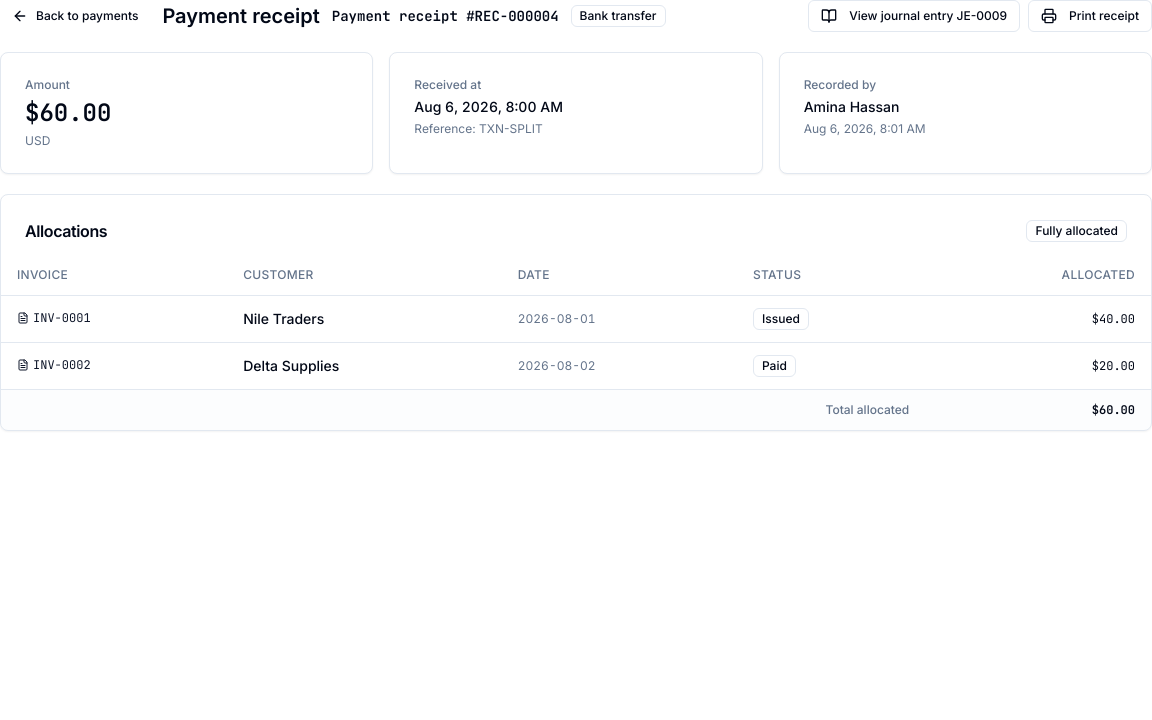
Test case: PaymentDetailView (ACC-9) — receipt detail › opens the receipt GL entry modal in place via View journal entry (ACC-9)
Click the button "View journal entry JE-0009": (914,16) 808,0 -> 1020,32
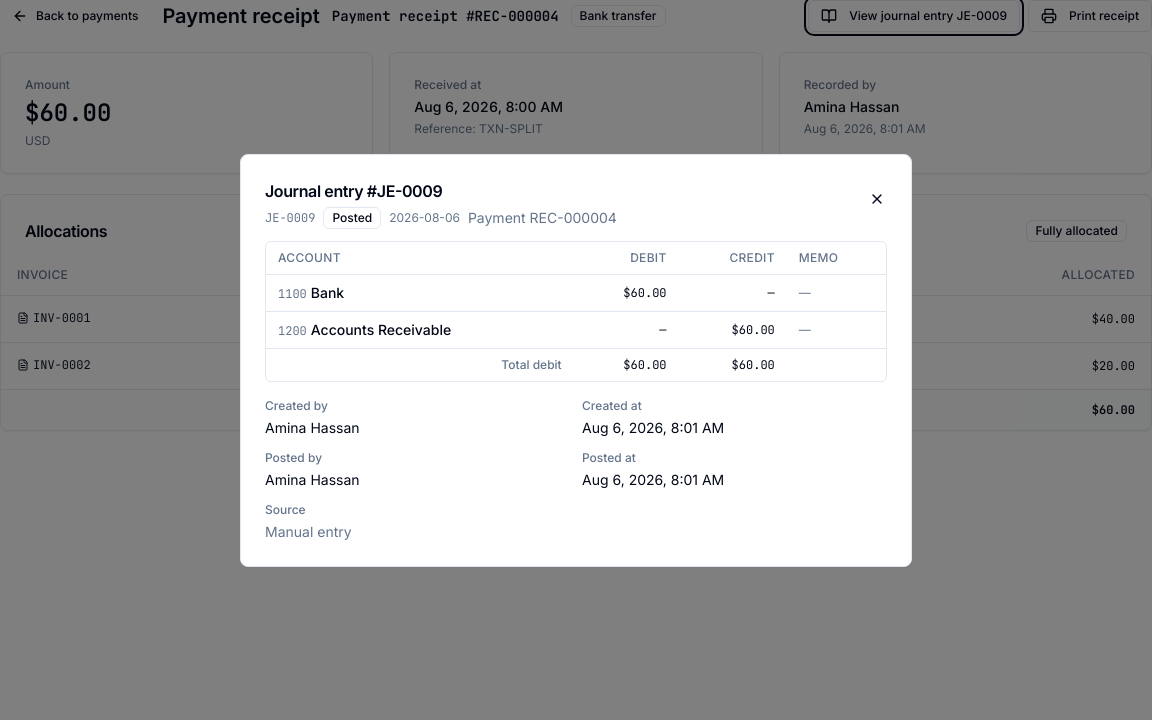
Expected: the button "Print receipt" is shown, 1028,0 -> 1151,32
Expected: the dialog is shown
